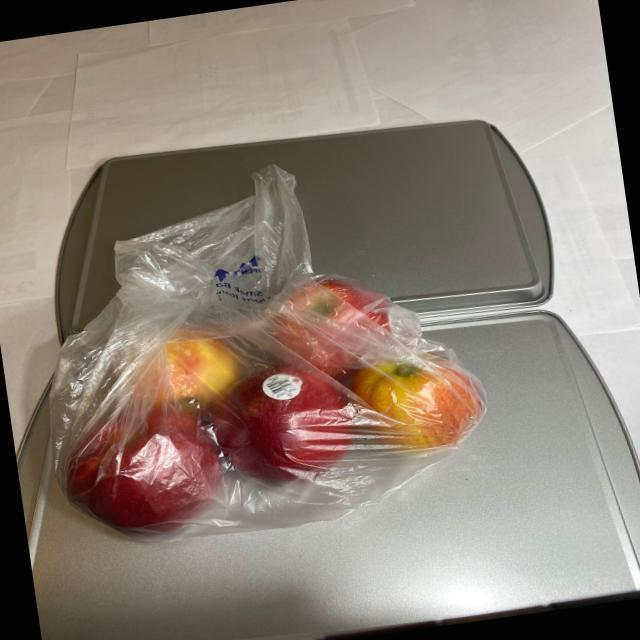apple: (34, 255, 508, 559)
